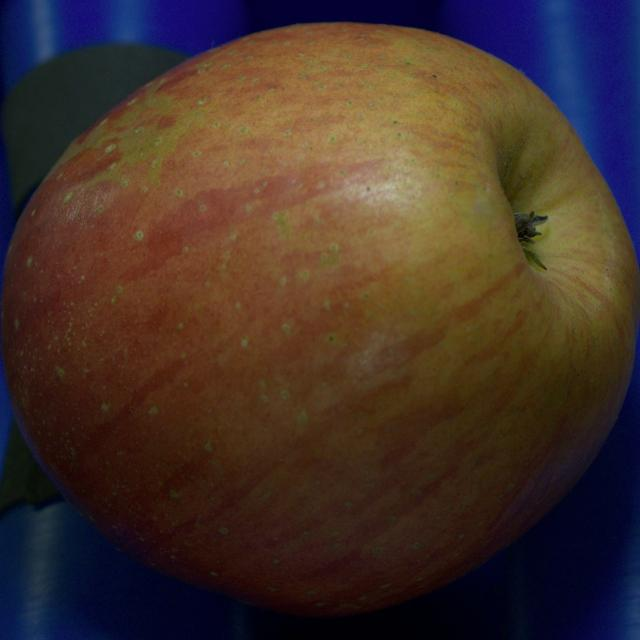apple: (1, 22, 639, 616)
